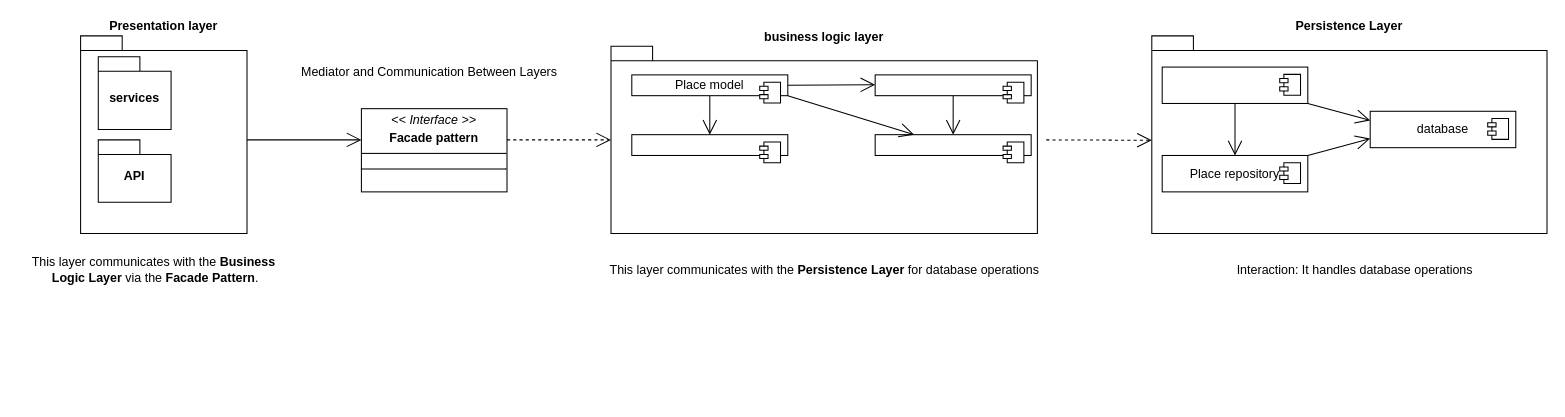
Image size: 1565x417. Some labels were removed from this diagram. Each missing label, with the centre of its shape:
"Amenity model" goes at (x=709, y=144).
"Review model" goes at (x=952, y=144).
"User model" goes at (x=952, y=85).
"User repository" goes at (x=1234, y=84).
